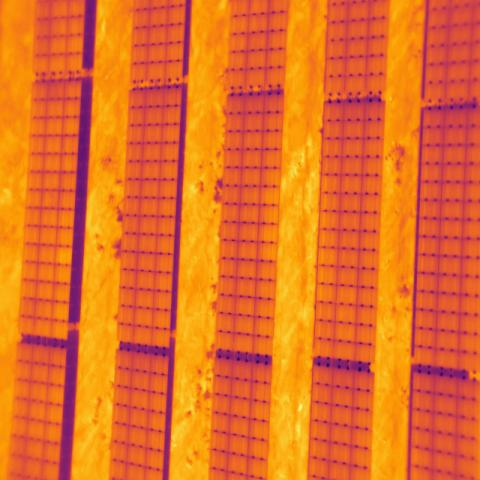fault: (72, 35, 88, 54)
